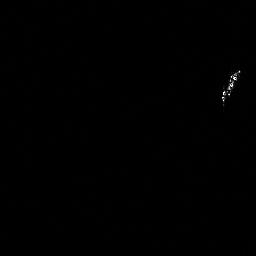ship: (220, 67, 242, 107)
